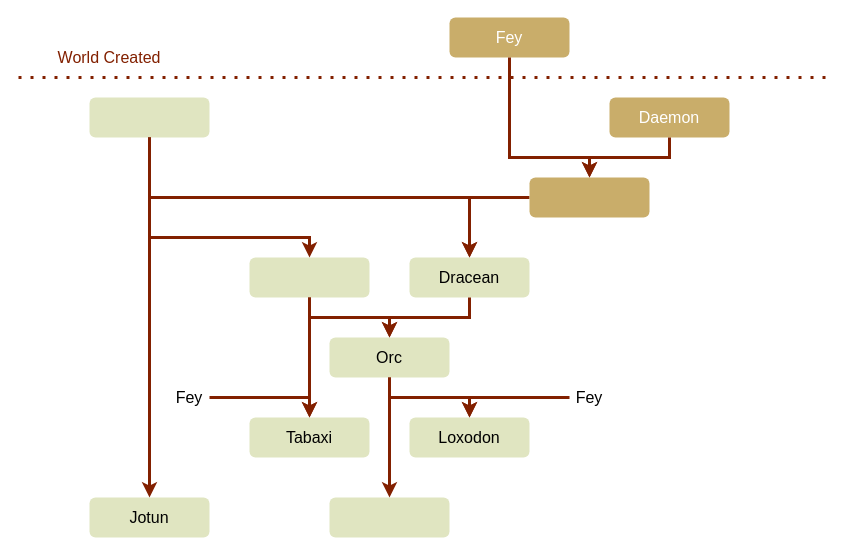
Image size: 849x554. Some labels were removed from this diagram. Each missing label, with the box of its shape:
Dragon: (529, 177, 649, 217)
Elf: (329, 497, 449, 537)
Human: (249, 257, 369, 297)
Iotun: (89, 97, 209, 137)
